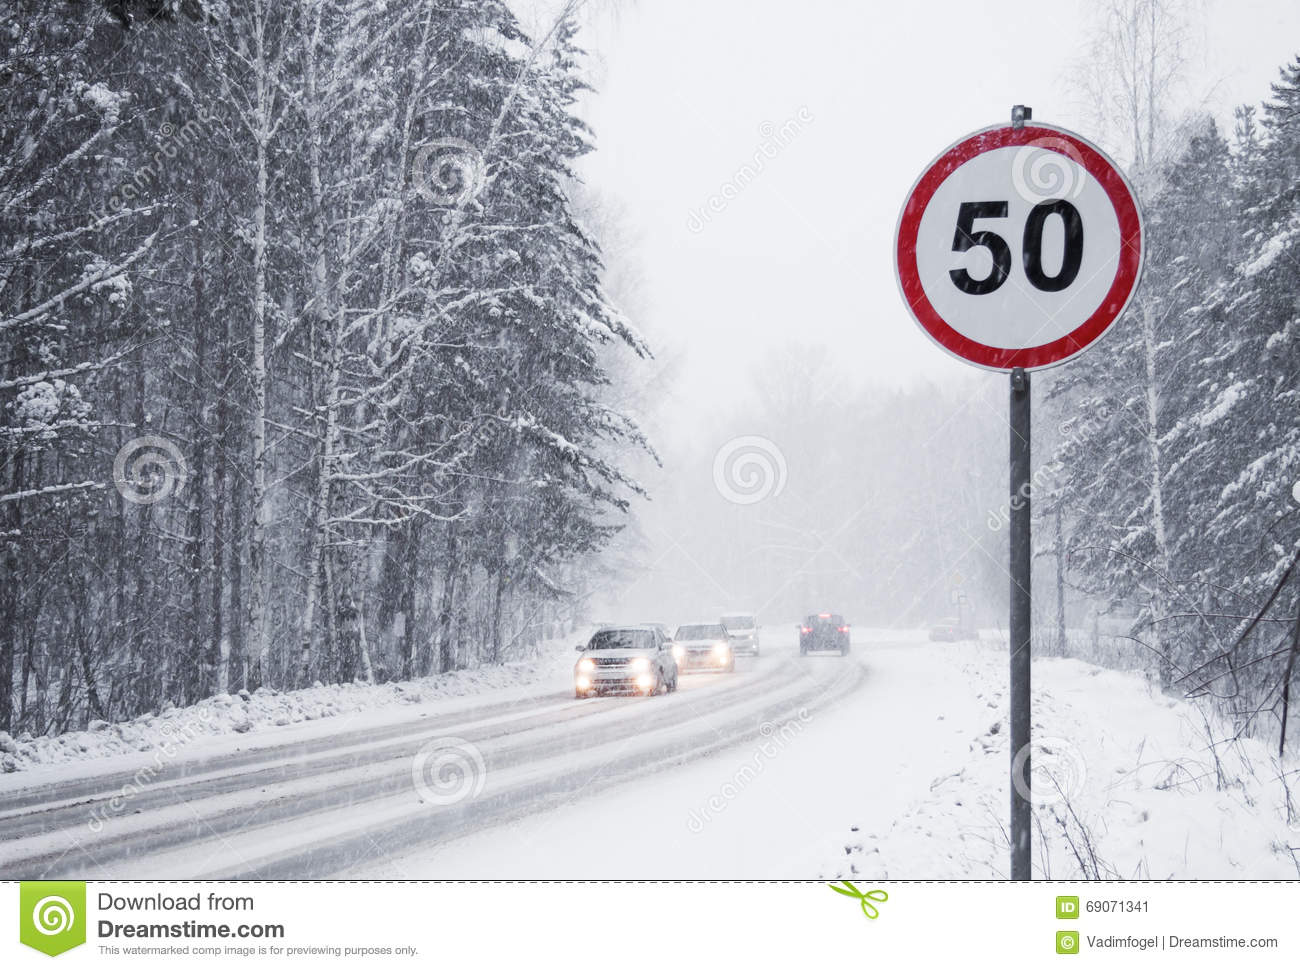Speed_limit_50km: (893, 134, 1150, 365)
